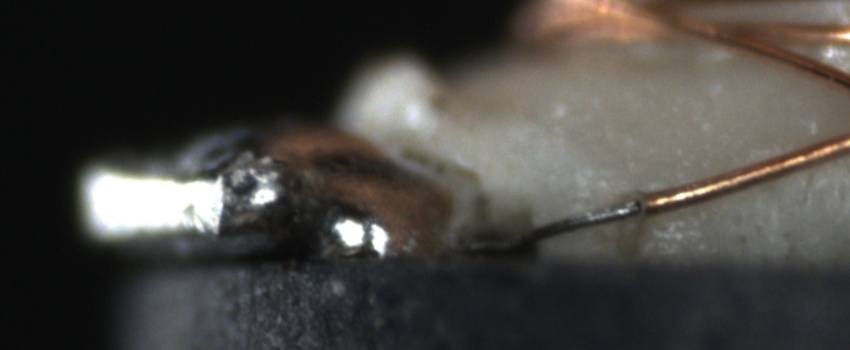TS: (460, 198, 643, 252)
TTCW: (498, 179, 681, 248)
